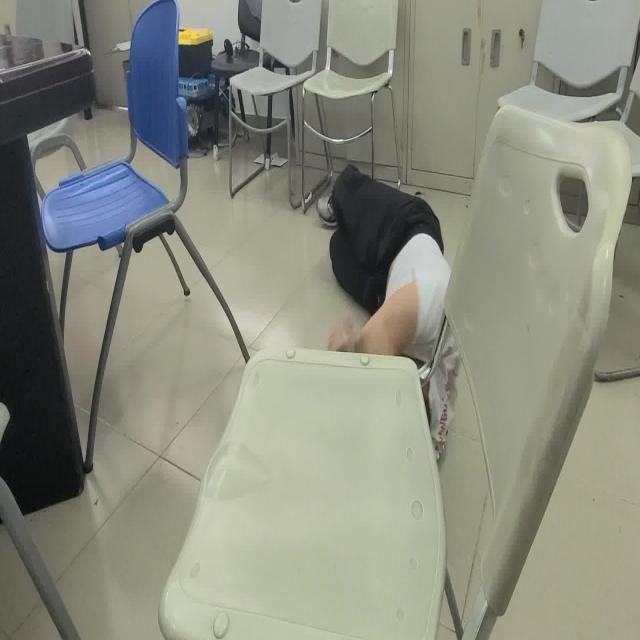fall: (328, 165, 458, 374)
